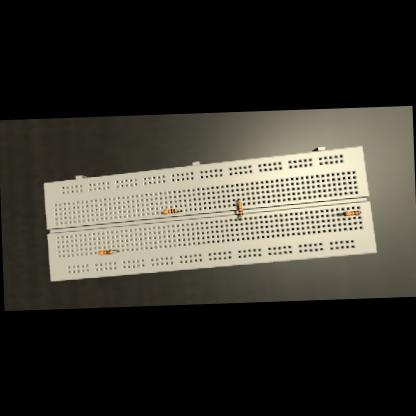breadboard: (42, 145, 376, 281)
resistor: (343, 210, 360, 216), (236, 202, 242, 216), (98, 250, 112, 255), (162, 209, 176, 214)
wire: (112, 250, 118, 252), (239, 216, 240, 220), (237, 200, 239, 202), (97, 252, 98, 254)
